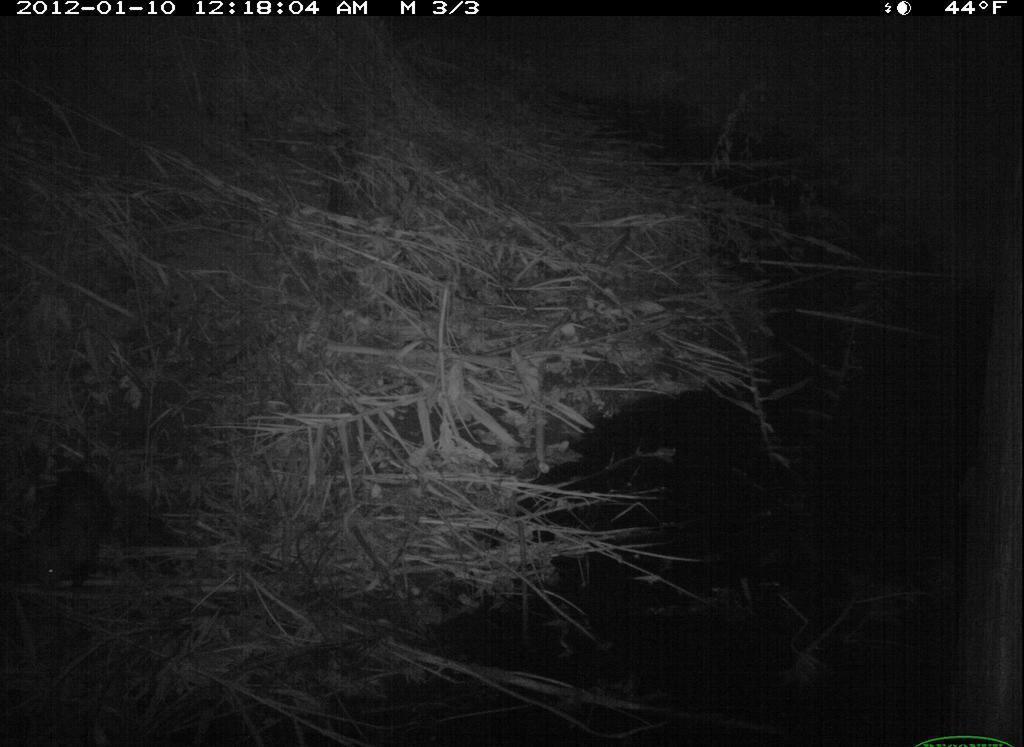opossum: (18, 434, 126, 605)
